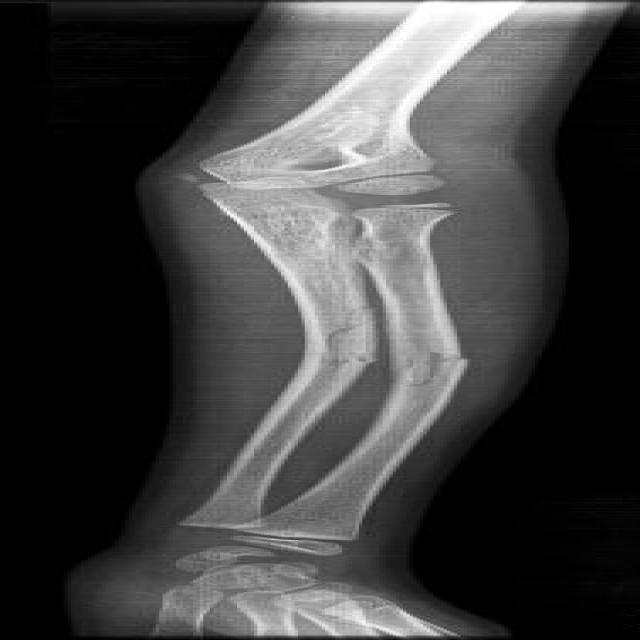bone: (296, 329, 492, 403)
